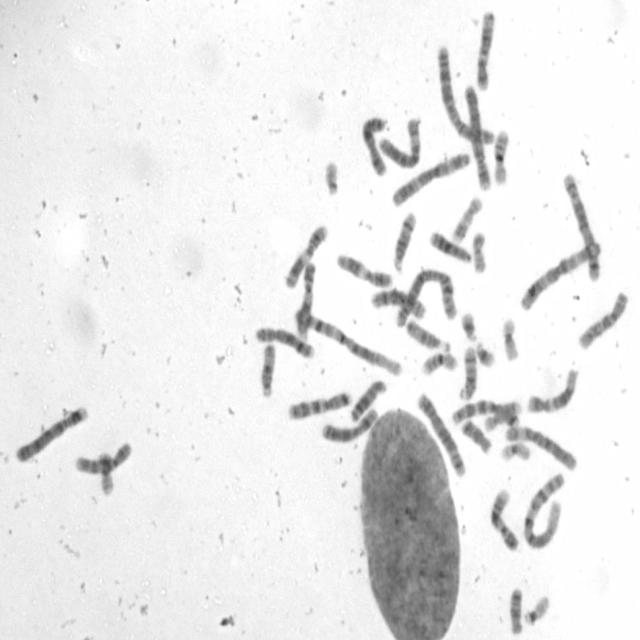A1: (292, 306, 405, 378), (520, 468, 566, 551)
A2: (434, 41, 494, 147), (393, 264, 458, 329)
A3: (516, 236, 603, 314), (388, 147, 470, 209)
B4: (12, 402, 89, 464), (460, 78, 492, 192)
B5: (414, 388, 467, 479), (560, 170, 602, 284)
C10: (576, 287, 631, 351), (72, 438, 133, 476)
C11: (282, 220, 330, 289), (334, 249, 394, 290)
C12: (524, 364, 580, 416), (473, 5, 497, 92)
C6: (502, 420, 579, 472), (376, 114, 424, 170)
C7: (447, 395, 522, 428), (285, 386, 353, 422)
C8: (252, 324, 314, 359), (368, 286, 428, 321)
C9: (487, 485, 520, 552), (293, 257, 317, 340)
D13: (348, 377, 388, 424), (426, 226, 473, 264)
D14: (390, 207, 418, 273), (455, 342, 479, 402)
D15: (404, 315, 452, 353), (257, 340, 277, 399)
E16: (490, 126, 511, 185), (419, 348, 460, 378)
E17: (449, 193, 483, 242), (482, 396, 523, 432)
E18: (458, 415, 493, 455), (506, 583, 525, 636)
F19: (499, 314, 521, 364), (498, 438, 532, 464)
F20: (95, 448, 116, 496), (469, 227, 488, 275)
G21: (473, 336, 497, 369), (458, 308, 478, 342)
G22: (521, 591, 552, 626), (321, 156, 340, 198)
X: (319, 405, 379, 443), (359, 112, 389, 178)
